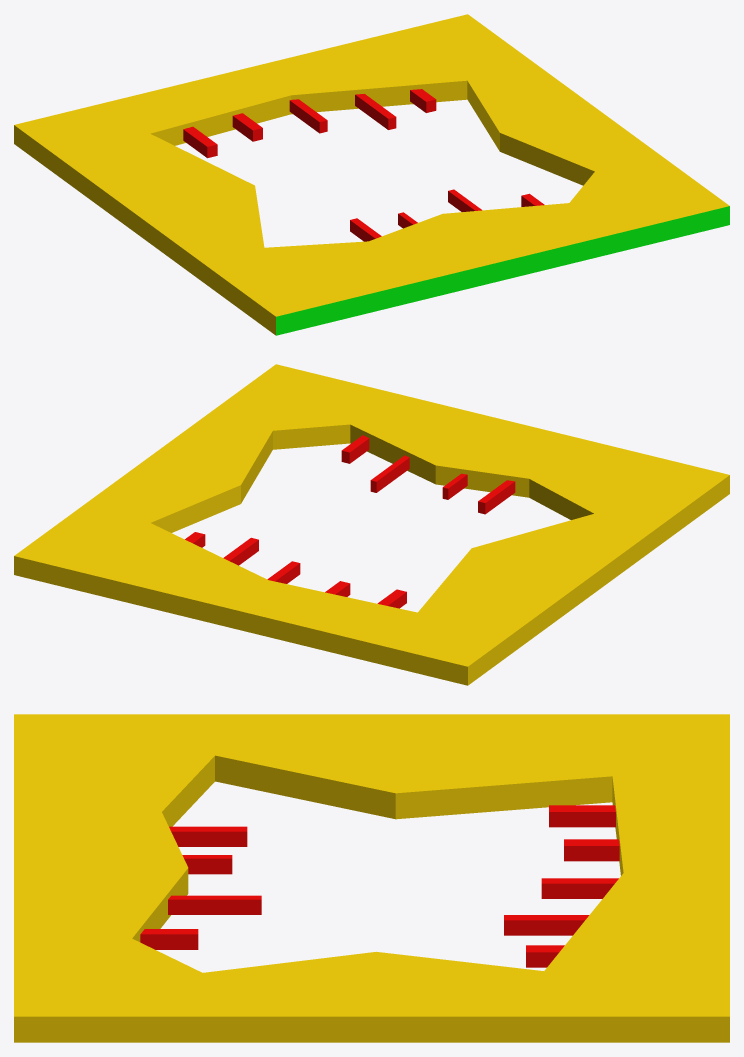
Rendered from GroundBreak.FBX.
3 renders of one model, top to bottom at view 1: azimuth 30°, elevation 25°; view 2: azimuth 150°, elevation 25°; view 3: azimuth 270°, elevation 25°, orthographic. The views are drawn at different scales.
Parts seen in each view (by area): view 1: GroundBreak001; view 2: GroundBreak001; view 3: GroundBreak001.
Boxes of the visible parts, x1=… form: GroundBreak001: x1=14, y1=14, x2=729, y2=335; GroundBreak001: x1=14, y1=364, x2=729, y2=685; GroundBreak001: x1=14, y1=714, x2=729, y2=1042.
Size of the model in its own units: 375 by 15 by 375.
